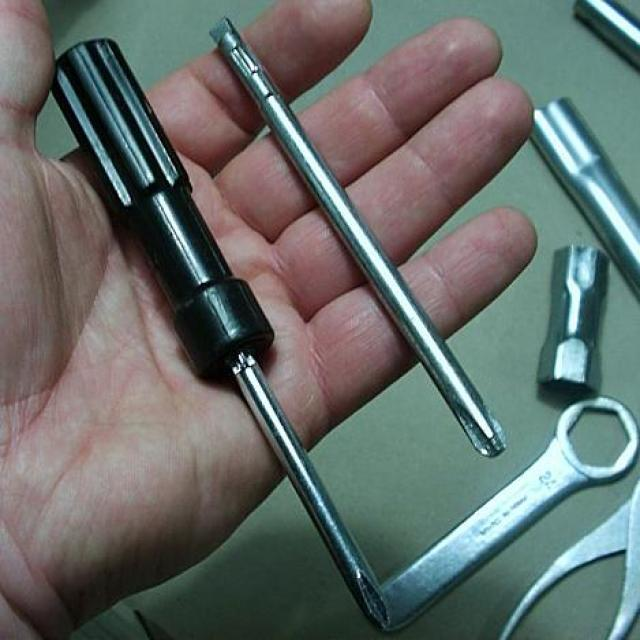screwdriver: (42, 35, 403, 627)
wrench: (364, 393, 640, 640)
